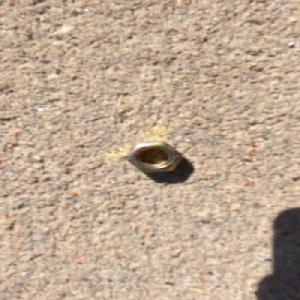Nut: (126, 140, 186, 175)
